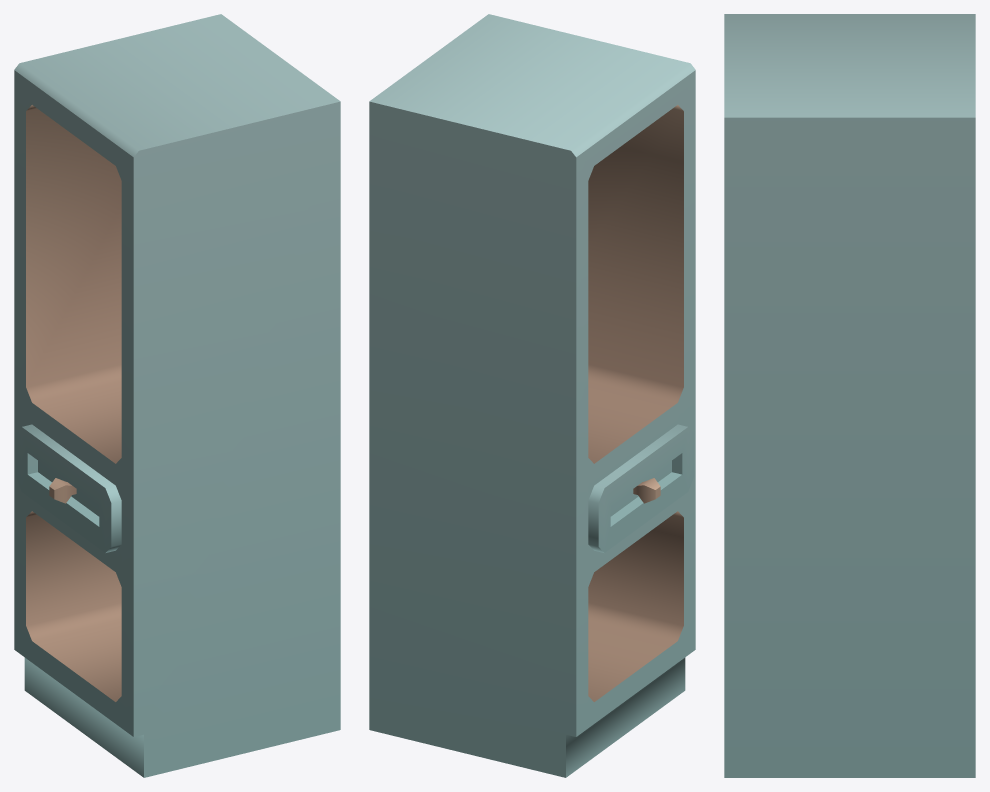
The model's file is cabinet-decorative-high.glb.
The picture shows the model from 3 angles, left to right: view 1: azimuth 30°, elevation 25°; view 2: azimuth 150°, elevation 25°; view 3: azimuth 270°, elevation 25°; orthographic projection. The views are drawn at different scales.
Parts seen in each view (by area): view 1: cabinet-decorative-high; view 2: cabinet-decorative-high; view 3: cabinet-decorative-high.
Boxes of the visible parts, x1,y1,x2,y2 form: cabinet-decorative-high: (14,14,340,777); cabinet-decorative-high: (369,14,695,777); cabinet-decorative-high: (724,14,975,777).
Bounding box in the file's own units: 0.5532 × 1.45 × 0.5.
